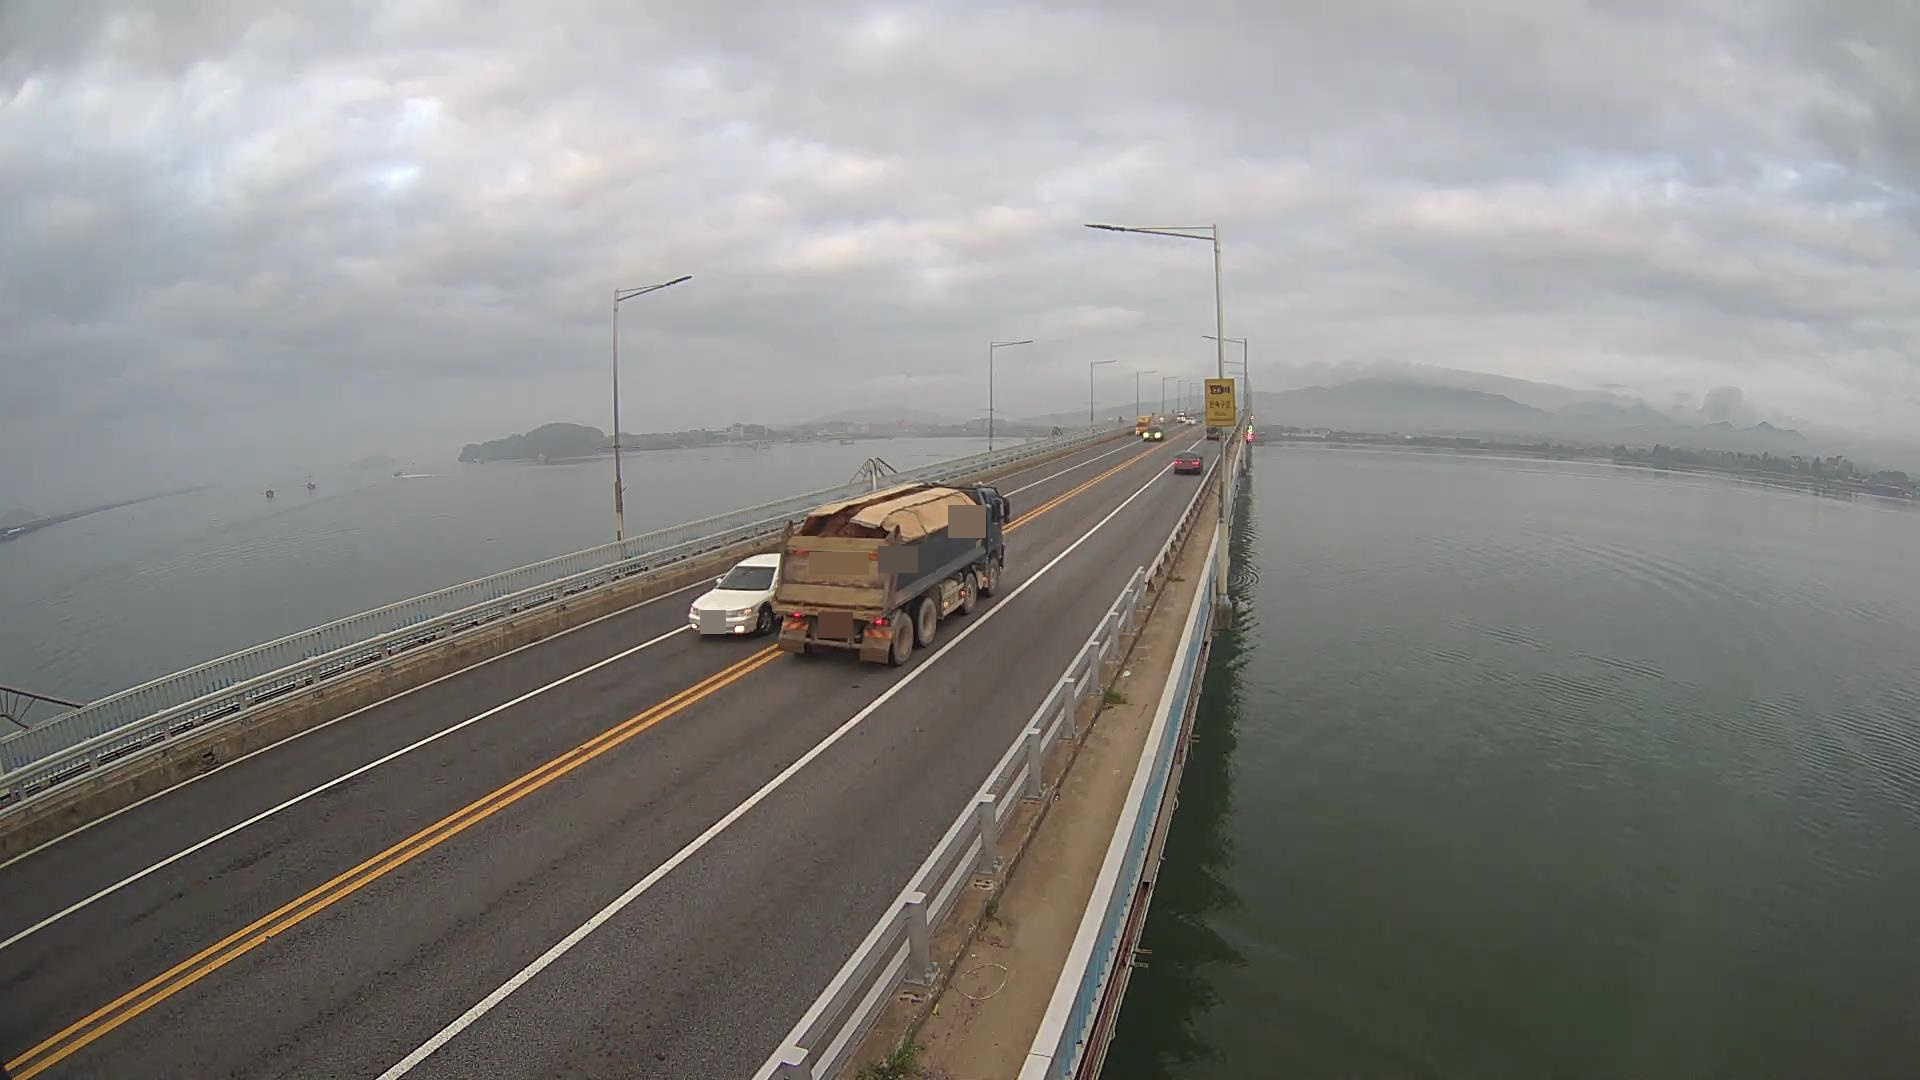정상차량: (771, 481, 1010, 665)
